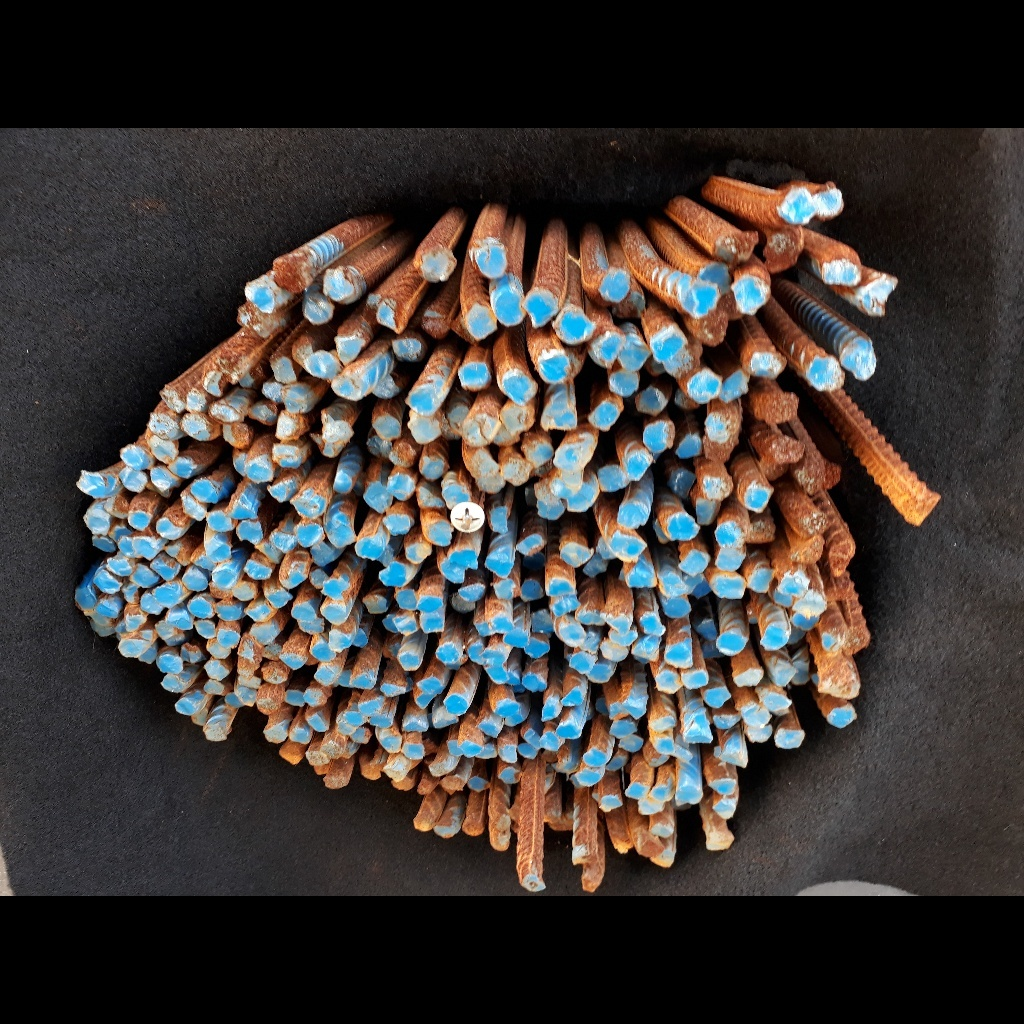dipstick: (840, 337, 877, 382), (805, 352, 846, 392), (860, 273, 898, 316), (766, 225, 800, 273), (233, 301, 277, 338), (681, 279, 720, 318), (272, 255, 312, 293), (553, 308, 595, 344), (793, 461, 832, 497), (419, 247, 457, 282), (686, 367, 721, 405), (460, 413, 499, 447), (406, 408, 442, 444), (653, 326, 688, 363), (523, 288, 556, 327), (555, 434, 594, 467), (718, 231, 759, 262), (463, 303, 497, 340), (502, 399, 536, 436), (782, 187, 815, 225), (303, 288, 335, 327), (280, 550, 311, 590), (698, 261, 733, 296), (318, 407, 353, 442), (906, 490, 940, 526), (820, 669, 860, 699), (732, 278, 766, 313), (503, 370, 537, 405), (322, 266, 357, 300), (748, 350, 789, 379), (809, 187, 845, 220), (520, 432, 553, 468), (609, 532, 646, 564), (494, 287, 525, 325), (822, 256, 861, 286), (404, 382, 438, 416), (830, 537, 857, 579), (476, 244, 509, 278), (642, 420, 675, 454), (243, 280, 276, 314), (329, 370, 366, 400), (599, 271, 632, 304), (765, 392, 797, 425), (593, 331, 622, 367), (302, 349, 339, 377), (377, 294, 404, 332), (500, 455, 532, 487), (538, 351, 569, 384), (362, 480, 395, 511), (666, 511, 700, 541), (720, 368, 749, 403), (309, 432, 349, 457), (148, 432, 180, 463), (635, 385, 668, 415), (704, 413, 737, 443), (567, 483, 600, 513), (767, 435, 805, 461), (457, 361, 491, 390), (796, 510, 830, 539), (73, 467, 107, 496), (292, 491, 327, 519), (664, 346, 694, 378), (335, 331, 365, 363), (371, 411, 403, 441), (151, 550, 181, 582), (742, 482, 771, 515), (712, 570, 745, 599), (559, 541, 592, 570), (551, 470, 584, 499), (118, 442, 153, 469), (589, 399, 618, 431), (701, 472, 734, 500), (623, 449, 651, 482), (177, 488, 204, 522), (597, 466, 633, 491), (275, 410, 306, 439), (669, 467, 697, 499), (266, 356, 298, 384), (792, 537, 824, 565), (422, 305, 449, 338), (310, 540, 343, 567), (612, 293, 645, 320), (270, 442, 304, 468), (786, 607, 821, 632), (247, 620, 282, 645), (760, 622, 789, 652), (387, 470, 416, 500), (616, 501, 647, 529), (677, 549, 710, 575), (116, 467, 149, 493), (556, 622, 585, 651), (244, 455, 273, 484), (713, 546, 748, 570), (631, 636, 661, 664), (221, 422, 251, 450), (716, 629, 747, 656), (663, 642, 694, 669), (130, 560, 161, 587), (150, 463, 177, 494), (607, 370, 639, 396), (244, 597, 277, 622), (445, 402, 469, 436), (153, 581, 181, 610), (827, 702, 857, 729), (355, 534, 385, 561), (390, 439, 416, 470), (154, 619, 185, 645), (624, 563, 656, 588), (416, 454, 448, 479), (383, 511, 415, 536), (484, 554, 517, 578), (448, 547, 481, 571), (778, 570, 808, 596), (423, 520, 453, 546), (438, 557, 468, 583), (393, 608, 419, 638), (150, 412, 180, 438), (158, 384, 183, 415), (179, 413, 210, 438), (660, 596, 692, 620), (651, 670, 683, 694), (242, 556, 274, 580), (741, 702, 774, 725), (716, 520, 744, 547), (281, 384, 308, 412), (602, 610, 630, 637), (182, 566, 210, 593), (327, 524, 356, 550), (747, 517, 777, 542), (598, 637, 629, 661), (415, 485, 446, 509), (520, 636, 552, 659), (292, 335, 313, 370), (675, 432, 702, 459), (444, 482, 470, 510), (249, 400, 277, 426), (188, 593, 214, 621), (701, 685, 730, 710), (236, 517, 265, 542), (236, 363, 265, 388), (638, 612, 668, 636), (847, 624, 871, 654), (209, 402, 243, 423), (695, 494, 718, 525), (657, 573, 688, 596), (775, 726, 806, 749), (515, 534, 546, 557), (759, 457, 791, 479), (569, 649, 595, 676), (383, 755, 410, 781), (237, 634, 263, 661), (254, 538, 282, 563), (260, 661, 288, 686), (266, 478, 294, 503), (190, 477, 218, 502), (419, 610, 448, 634), (269, 529, 298, 553), (95, 567, 124, 591), (106, 554, 135, 578), (759, 689, 792, 710), (499, 624, 529, 647), (639, 834, 669, 857), (717, 745, 748, 767), (748, 567, 774, 593), (321, 576, 347, 602), (310, 637, 336, 663), (529, 607, 556, 632), (320, 599, 347, 624), (379, 562, 408, 585), (580, 746, 609, 769), (535, 499, 565, 521), (294, 522, 324, 544), (264, 587, 295, 608), (226, 498, 257, 519), (822, 628, 847, 654), (406, 538, 432, 563), (154, 515, 181, 539), (103, 494, 130, 518), (392, 337, 421, 359), (202, 369, 224, 398), (680, 668, 709, 690), (430, 705, 459, 727), (215, 600, 244, 622), (549, 595, 579, 616), (119, 636, 149, 657), (165, 539, 190, 564), (477, 714, 503, 738), (127, 506, 153, 530), (518, 579, 545, 602), (74, 587, 97, 614), (370, 375, 398, 397), (769, 663, 797, 685), (362, 592, 390, 614), (545, 576, 574, 597), (713, 795, 738, 819), (210, 566, 235, 590), (233, 656, 263, 676), (156, 654, 186, 674), (84, 508, 109, 532), (207, 507, 233, 530), (365, 435, 392, 457), (609, 716, 636, 738), (491, 578, 519, 599), (417, 673, 445, 694), (519, 870, 547, 891), (734, 667, 763, 687), (486, 613, 515, 633), (707, 831, 736, 851), (789, 657, 812, 682), (444, 693, 469, 716), (207, 635, 232, 658), (167, 606, 192, 629), (488, 506, 510, 532), (327, 628, 349, 654), (400, 738, 426, 760), (141, 591, 163, 617), (540, 694, 561, 721), (230, 449, 251, 476), (458, 582, 486, 602), (583, 554, 606, 578), (686, 726, 714, 745), (449, 591, 477, 610), (166, 456, 194, 475), (159, 674, 187, 693), (495, 740, 518, 763), (460, 738, 483, 761), (395, 587, 417, 611), (465, 640, 487, 664), (312, 663, 336, 685), (588, 663, 613, 684), (676, 784, 701, 805), (435, 643, 460, 664), (133, 535, 154, 560), (618, 733, 644, 753), (571, 845, 597, 865), (277, 744, 303, 764), (768, 588, 795, 607), (334, 467, 353, 494), (712, 712, 742, 729), (562, 684, 584, 707), (522, 725, 544, 748), (209, 541, 232, 563), (233, 685, 256, 707), (216, 627, 238, 650), (259, 381, 283, 402), (697, 618, 718, 642), (484, 664, 509, 684), (539, 731, 564, 751), (291, 602, 316, 622), (283, 649, 308, 669), (441, 775, 466, 795), (576, 610, 607, 626), (521, 671, 547, 690), (304, 713, 330, 732), (611, 832, 633, 854), (265, 722, 287, 744), (625, 779, 650, 798), (403, 715, 428, 734), (745, 725, 771, 743), (650, 715, 676, 733), (638, 796, 664, 814), (298, 616, 324, 634), (577, 767, 603, 785), (319, 773, 350, 788), (234, 673, 265, 688), (416, 595, 445, 611), (379, 732, 401, 753), (418, 773, 440, 794), (322, 739, 344, 760), (206, 658, 228, 679), (625, 694, 645, 717), (557, 720, 580, 740), (398, 652, 421, 672), (307, 566, 327, 589), (304, 685, 327, 705), (359, 761, 382, 781), (414, 690, 439, 708), (429, 757, 454, 775), (121, 579, 139, 604), (709, 779, 737, 795), (90, 534, 118, 550), (597, 794, 623, 811), (489, 830, 510, 851), (516, 741, 538, 761), (195, 618, 215, 640), (344, 707, 367, 726), (348, 725, 371, 744), (185, 387, 204, 410), (96, 598, 119, 617), (435, 821, 460, 838), (173, 697, 198, 714), (368, 714, 396, 729), (358, 698, 380, 717), (179, 641, 201, 660), (462, 818, 485, 836), (380, 682, 407, 697), (494, 701, 519, 717), (207, 545, 232, 561), (650, 819, 672, 837), (468, 775, 490, 793), (125, 613, 147, 631), (648, 784, 671, 801), (350, 674, 373, 691), (306, 749, 329, 766), (412, 816, 436, 832), (654, 735, 674, 754), (483, 646, 503, 665), (224, 691, 244, 710), (351, 626, 369, 647), (204, 724, 226, 741), (392, 775, 415, 791), (607, 754, 627, 772), (475, 619, 495, 637), (284, 690, 304, 708), (117, 534, 135, 554), (476, 742, 497, 759), (256, 697, 277, 714), (498, 767, 521, 782), (289, 728, 312, 743), (608, 700, 626, 719), (380, 613, 398, 632), (204, 678, 224, 695), (580, 873, 596, 893), (262, 642, 280, 658)
